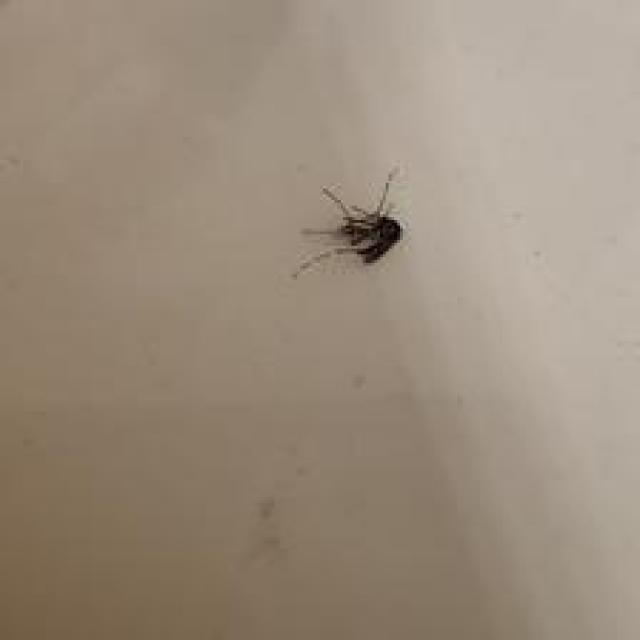Aedes albopictus: (290, 166, 404, 280)
